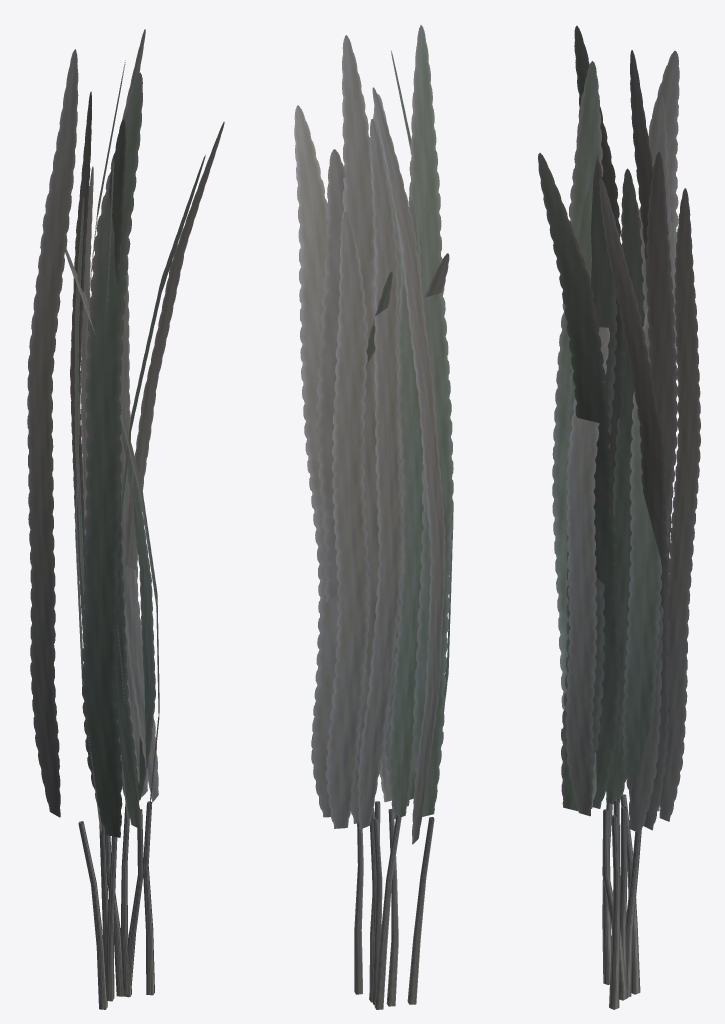
File: kelp_l0.gltf
3 renders of one model, left to right at view 1: azimuth 30°, elevation 25°; view 2: azimuth 150°, elevation 25°; view 3: azimuth 270°, elevation 25°, orthographic.
Visible parts, largest first — view 1: kelp_l0; view 2: kelp_l0; view 3: kelp_l0.
Part boxes in pixels (x1,y1,x2,y2): kelp_l0: (27,29,224,1009); kelp_l0: (294,25,453,1009); kelp_l0: (538,25,700,1009).
Size of the model in its own units: 1.29 by 6.28 by 1.24.
Materials: 1 (1 with a texture image).
